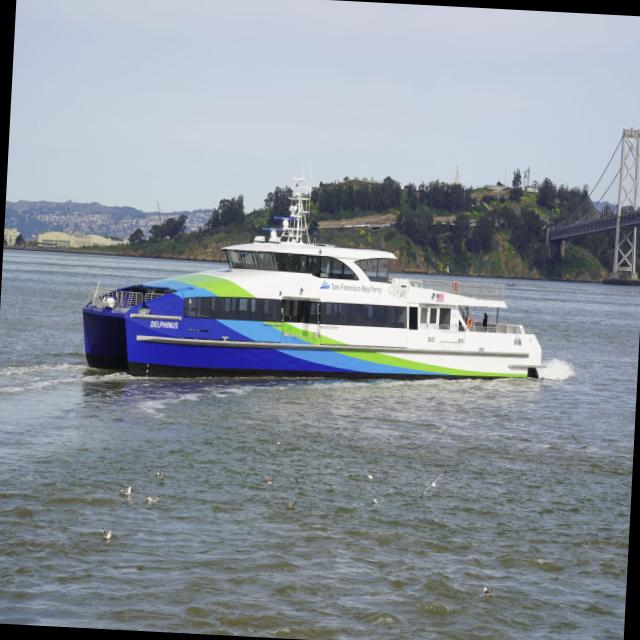Passenger: (84, 179, 543, 379)
